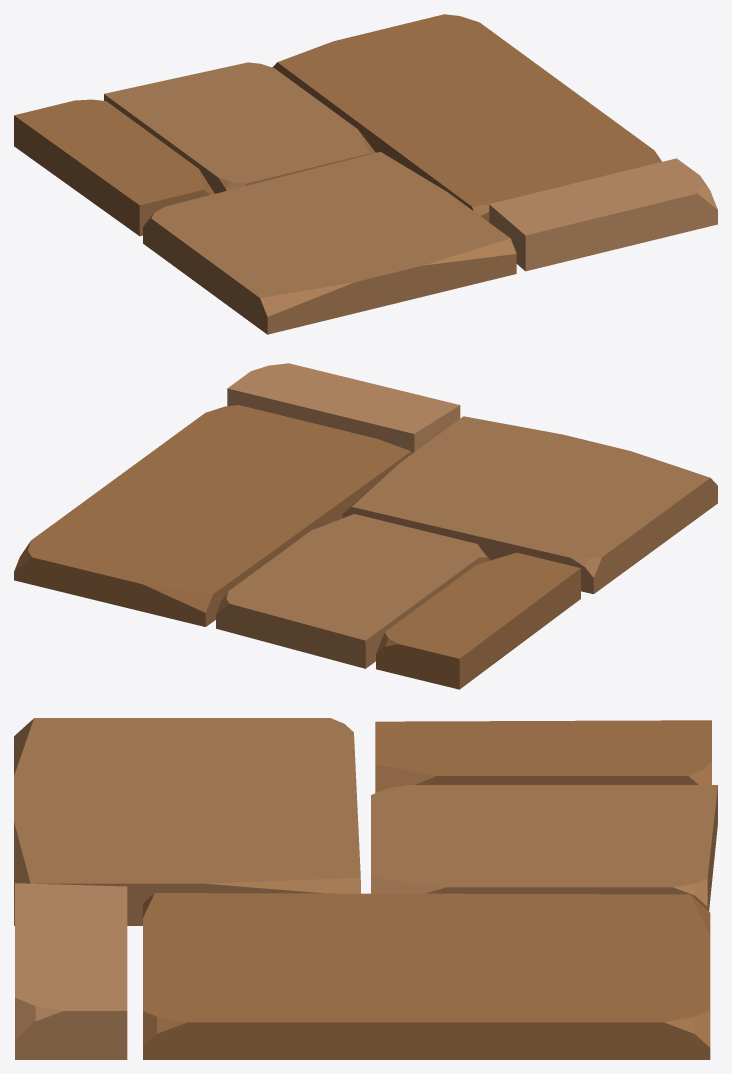
Rendered from Tile_02.fbx.
3 views of the same model, one above another, from view 1: azimuth 30°, elevation 25°; view 2: azimuth 150°, elevation 25°; view 3: azimuth 270°, elevation 25° (orthographic). The views are drawn at different scales.
Visible parts, largest first — view 1: Tile_02; view 2: Tile_02; view 3: Tile_02.
Part boxes in pixels (x1,y1,x2,y2): Tile_02: (14, 14, 717, 334); Tile_02: (14, 363, 717, 689); Tile_02: (14, 718, 717, 1059).
Size of the model in its own units: 95.98 by 7.31 by 95.38.
